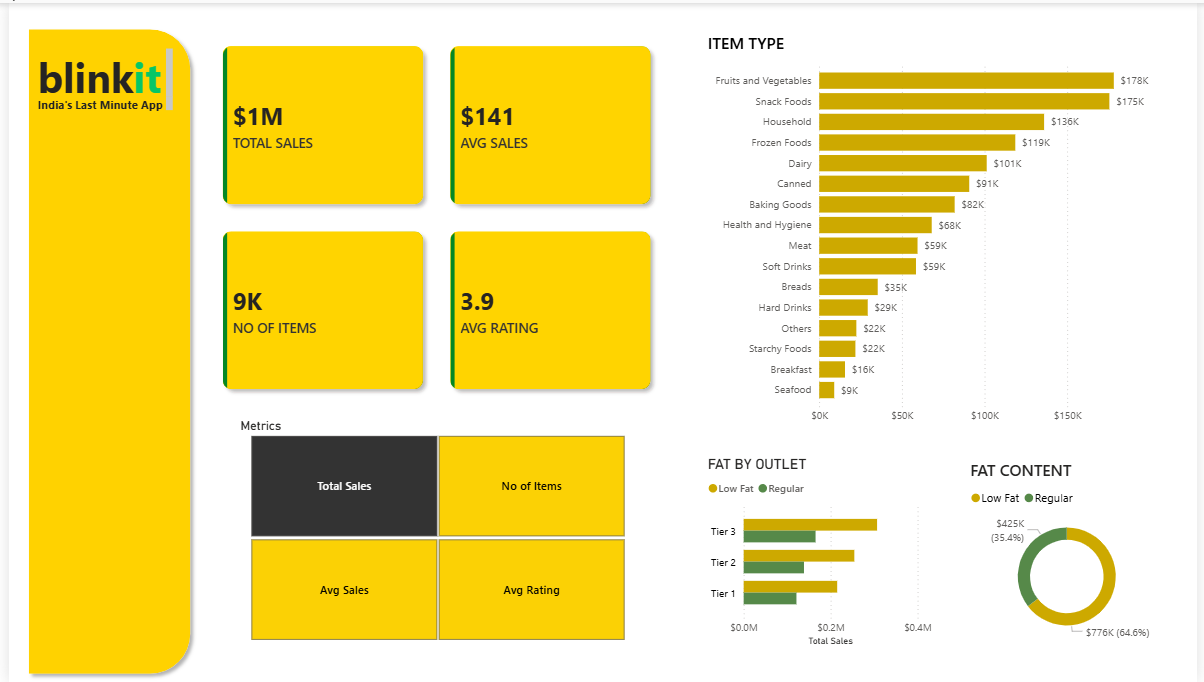

The page's visual inventory and layout, read from the dashboard file:
{"tool":"powerbi","page":{"name":"Page 1","canvas":[1400,800],"ordinal":0},"visuals":[{"type":"shape","box":[14.1,23,208.5,777.6],"z":0},{"type":"textbox","box":[28.3,49.5,169.7,70.7],"z":1000},{"type":"textbox","box":[28.3,106,169.7,26.5],"z":2000},{"type":"cardVisual","fields":{"Data":["BlinkIT Grocery Data.Total Sales","BlinkIT Grocery Data.Avg Sales","BlinkIT Grocery Data.No of Items","BlinkIT Grocery Data.Avg Rating"]},"box":[222.7,23,562,463],"z":3000},{"type":"donutChart","title":"FAT CONTENT","fields":{"Category":["BlinkIT Grocery Data.Item Fat Content"],"Y":["BlinkIT Grocery Data.Total Sales"]},"box":[1127.6,539,236.8,220.9],"z":3002},{"type":"slicer","fields":{"Values":["Metrics.Metrics"]},"box":[259.8,486,489.6,272.2],"z":3003},{"type":"clusteredBarChart","title":"FAT BY OUTLET","fields":{"Y":["BlinkIT Grocery Data.Total Sales"],"Category":["BlinkIT Grocery Data.Outlet Location Type"],"Series":["BlinkIT Grocery Data.Item Fat Content"]},"box":[818.3,533.7,273.9,229.8],"z":3004},{"type":"barChart","title":"ITEM TYPE","fields":{"Category":["BlinkIT Grocery Data.Item Type"],"Y":["BlinkIT Grocery Data.Total Sales"]},"box":[818.3,35.3,546.1,470.1],"z":3005}]}

Visuals, with their boxes in screenshot pixels (x1, y1, x2, y2), scaled from the page's 1400x800 canvas onto the 1204x682 screenshot:
shape: (12, 20, 191, 681)
textbox: (24, 42, 170, 102)
textbox: (24, 90, 170, 113)
cardVisual - BlinkIT Grocery Data.Total Sales x BlinkIT Grocery Data.Avg Sales: (192, 20, 675, 414)
"FAT CONTENT" donutChart: (970, 459, 1173, 648)
slicer - Metrics.Metrics: (223, 414, 644, 646)
"FAT BY OUTLET" clusteredBarChart: (704, 455, 939, 651)
"ITEM TYPE" barChart: (704, 30, 1173, 431)
